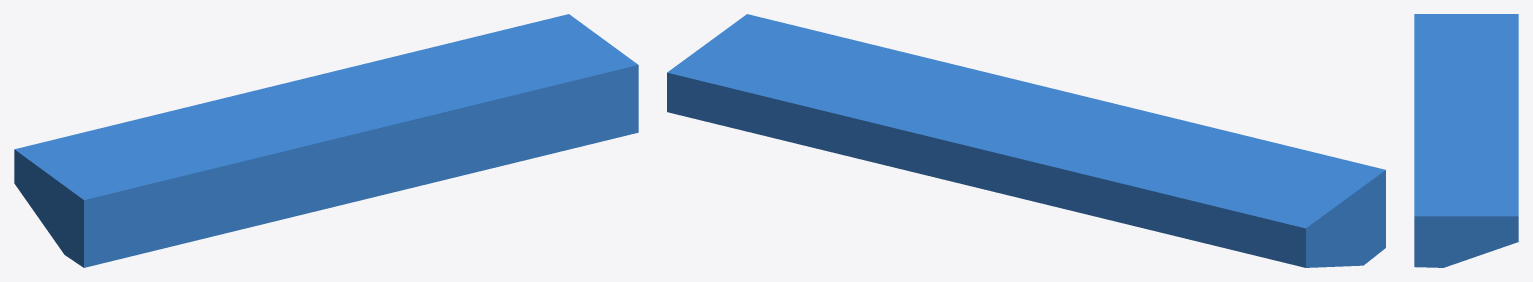
Rendered from Collision_Wall_BottomCover.fbx.
3 renders of one model, left to right at view 1: azimuth 30°, elevation 25°; view 2: azimuth 150°, elevation 25°; view 3: azimuth 270°, elevation 25°, orthographic. The views are drawn at different scales.
Visible parts, largest first — view 1: UCX_Wall_BottomCover_1; view 2: UCX_Wall_BottomCover_1; view 3: UCX_Wall_BottomCover_1.
Part boxes in pixels (left/top/right/bottom): UCX_Wall_BottomCover_1: left=14, top=14, right=638, bottom=267; UCX_Wall_BottomCover_1: left=667, top=14, right=1385, bottom=267; UCX_Wall_BottomCover_1: left=1414, top=14, right=1518, bottom=267.
Size of the model in its own units: 200 by 23.76 by 43.43.
